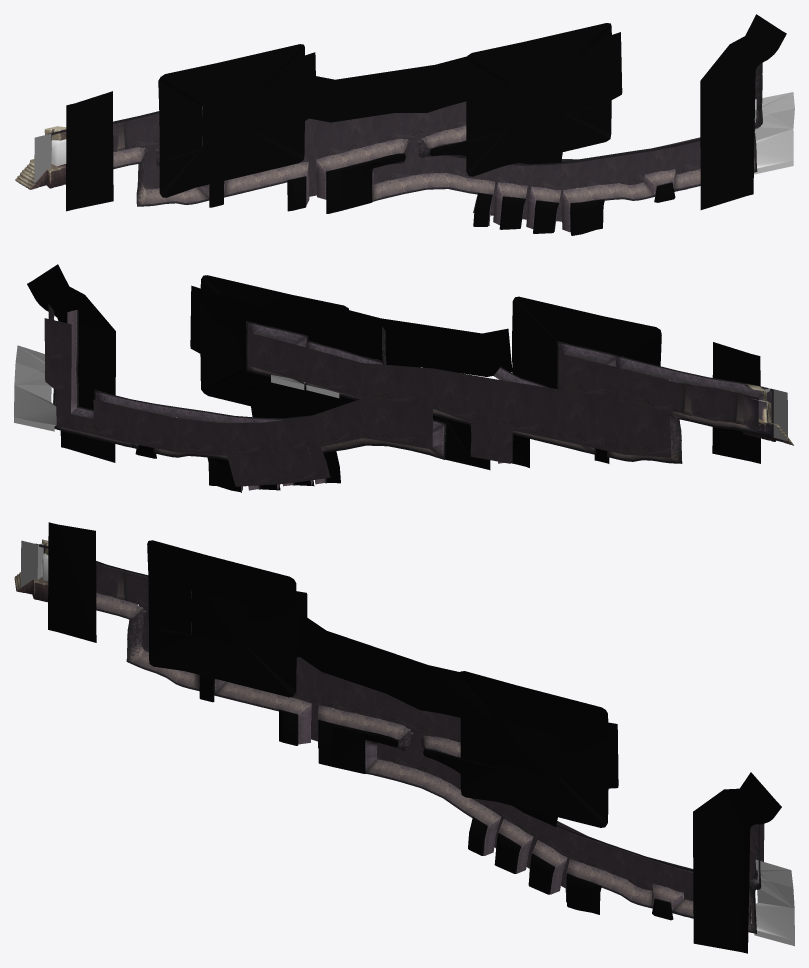
Rendered from Lost Temple Part 2.FBX.
3 renders of one model, top to bottom at view 1: azimuth 30°, elevation 25°; view 2: azimuth 150°, elevation 25°; view 3: azimuth 330°, elevation 25°, orthographic.
Visible parts, largest first — view 1: Black Part 2, Temple Black Exterior, Black Cat Room, Black Cat Room 2, Temple Back Wall, Black 2 Part 2, Temple Back Wall 2, Temple 1 _3, Temple 1, Temple Exit Interior Hide, Temple Back Wall 1, Temple 1 _ 2 (+8 smaller); view 2: Temple Back Wall, Temple Back Wall 2, Black Part 2, Temple Back Wall 1, Temple Black Exterior, Black Cat Room, Black Cat Room 2, Black 2 Part 2, Temple 1 _1, Temple 1, Temple Exit Interior Hide, Temple 1 _3 (+6 smaller); view 3: Black Part 2, Temple Black Exterior, Black Cat Room, Black Cat Room 2, Black 2 Part 2, Temple Back Wall, Temple Back Wall 2, Temple Back Wall 1, Temple 1 _ 2, Temple Exit Interior Hide, Temple 1, Temple 1 _3 (+5 smaller).
Boxes of the visible parts, x1,y1,x2,y2 form: Black Part 2: (168,32,622,164); Temple Black Exterior: (66,14,786,211); Black Cat Room: (158,44,305,197); Black Cat Room 2: (465,23,611,176); Temple Back Wall: (113,113,700,221); Black 2 Part 2: (209,153,675,235); Temple Back Wall 2: (372,101,534,215); Temple 1 _3: (380,125,603,198); Temple 1: (488,63,762,232); Temple Exit Interior Hide: (754,92,794,174); Temple Back Wall 1: (300,116,372,196); Temple 1 _ 2: (205,138,410,204); Temple Back Wall: (44,318,758,486); Temple Back Wall 2: (247,332,433,483); Black Part 2: (190,285,512,418); Temple Back Wall 1: (432,353,624,463); Temple Black Exterior: (27,264,760,463); Black Cat Room: (512,296,661,388); Black Cat Room 2: (200,275,349,409); Black 2 Part 2: (135,415,609,492); Temple 1 _1: (493,356,756,463); Temple 1: (48,304,326,492); Temple Exit Interior Hide: (14,345,56,431); Temple 1 _3: (205,326,429,455); Black Part 2: (157,590,618,826); Temple Black Exterior: (48,522,781,953); Black Cat Room: (147,540,296,697); Black Cat Room 2: (459,671,608,827); Black 2 Part 2: (199,675,673,920); Temple Back Wall: (96,561,764,915); Temple Back Wall 2: (376,690,541,850); Temple Back Wall 1: (291,658,376,741); Temple 1 _ 2: (199,675,413,758); Temple Exit Interior Hide: (751,859,794,946); Temple 1: (483,824,760,919); Temple 1 _3: (379,735,600,843).
Size of what is drawn, in the model's own units: 14730 by 305 by 4823.
